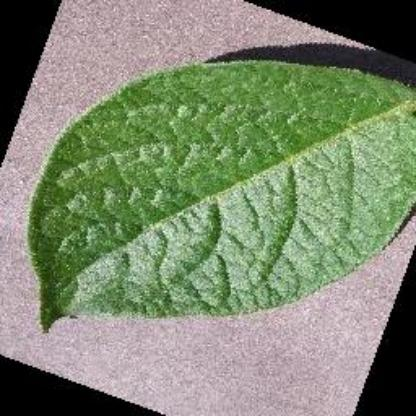Healthy-plant: (28, 38, 416, 328)
